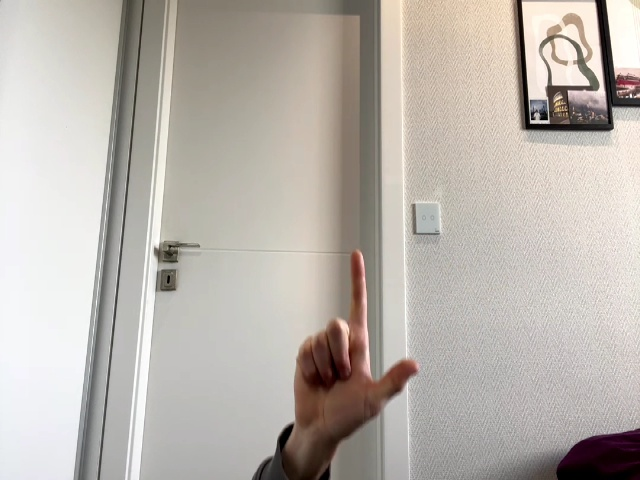L: (293, 249, 419, 454)
